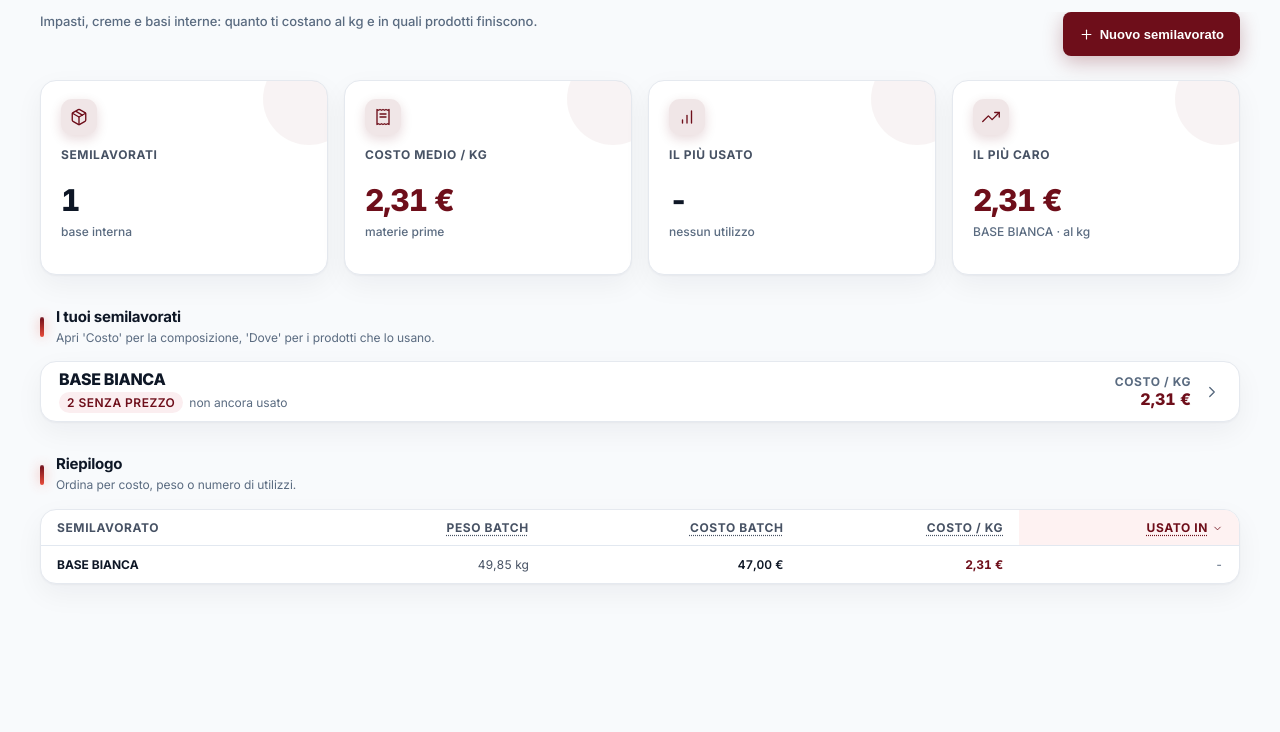
Test: Quando i due numeri divergono, si dice › aprendo la scheda si legge quanto risulterebbe dagli ingredienti
The width and height of the screenshot is (1280, 732).
Click the button that starts with "BASE BIANCA" at (112, 379), box [41,362,1239,421]
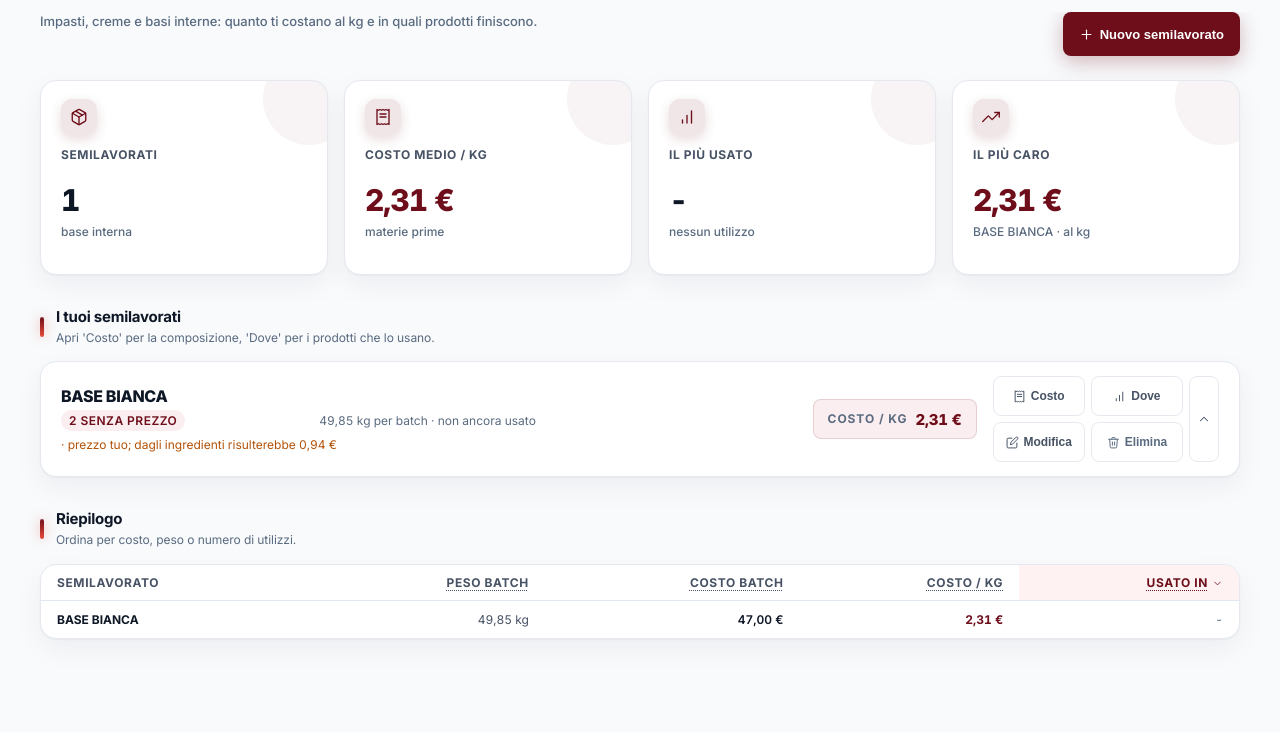
expect the text "dagli ingredienti risulterebbe" is shown: met, box [61,437,299,452]
